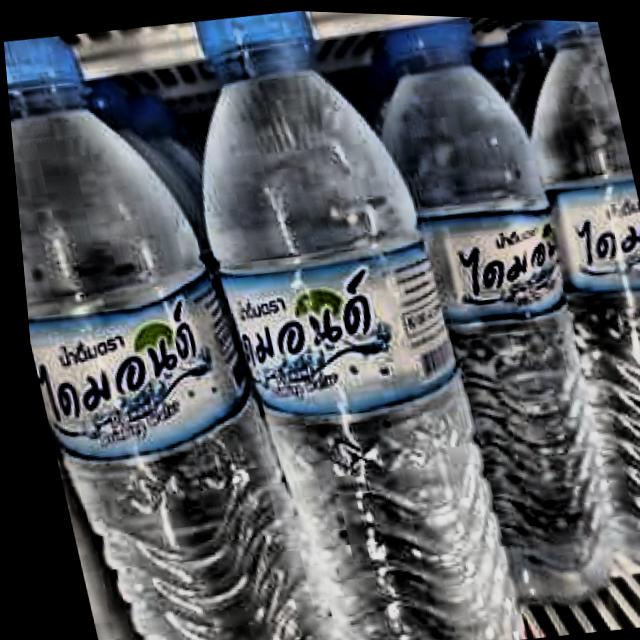Bottles: (152, 4, 541, 640), (1, 14, 332, 640), (344, 10, 640, 631), (476, 14, 640, 604)
